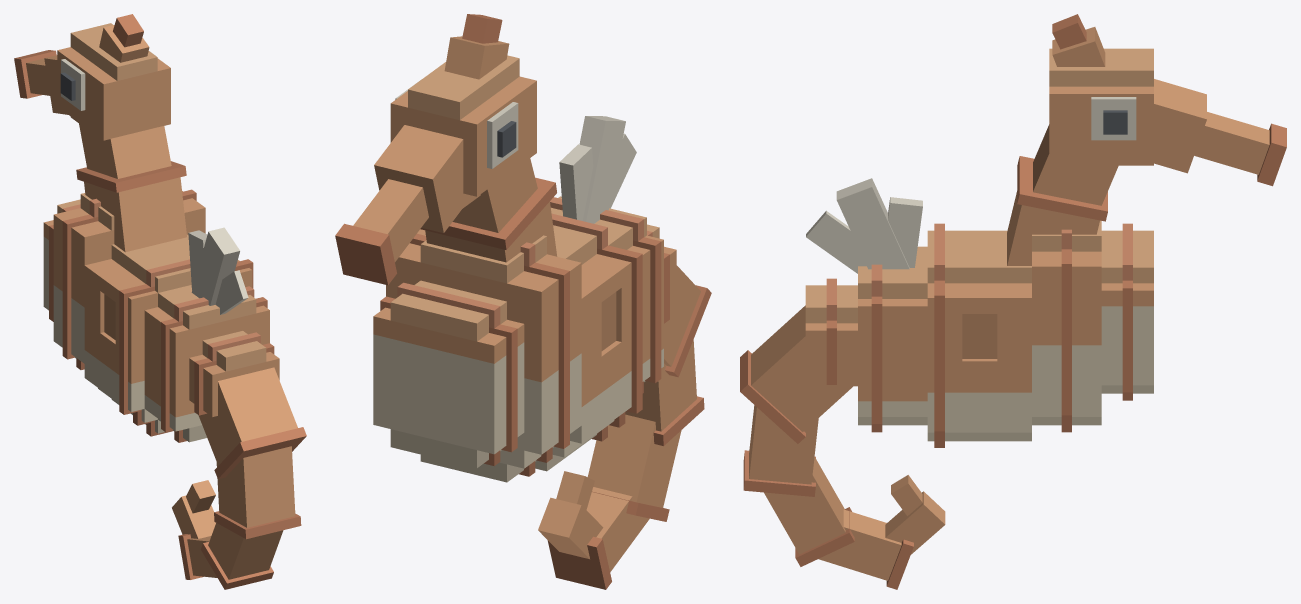
Rendered from Seahorse.glb.
3 renders of one model, left to right at view 1: azimuth 30°, elevation 25°; view 2: azimuth 150°, elevation 25°; view 3: azimuth 270°, elevation 25°, orthographic. The views are drawn at different scales.
Visible parts, largest first — view 1: Body, Head, T1, T2, Fin, T3, T5, T4, T6; view 2: Body, Head, T3, Fin, T4, T2, T1, T5, T6; view 3: Body, Head, T1, Fin, T2, T3, T4, T5, T6.
Part boxes in pixels (left/top/right/bottom): Body: left=43, top=122, right=279, bottom=442; Head: left=14, top=14, right=170, bottom=140; T1: left=198, top=367, right=306, bottom=478; T2: left=214, top=446, right=301, bottom=539; Fin: left=188, top=227, right=248, bottom=314; T3: left=200, top=523, right=283, bottom=589; T5: left=172, top=495, right=215, bottom=538; T4: left=178, top=534, right=217, bottom=579; T6: left=186, top=480, right=215, bottom=513; Body: left=373, top=158, right=676, bottom=482; Head: left=335, top=14, right=536, bottom=285; T3: left=587, top=414, right=681, bottom=521; Fin: left=559, top=116, right=636, bottom=223; T4: left=547, top=487, right=649, bottom=589; T2: left=625, top=340, right=704, bottom=446; T1: left=664, top=265, right=711, bottom=377; T5: left=538, top=497, right=603, bottom=559; T6: left=556, top=471, right=594, bottom=509; Body: left=805, top=124, right=1153, bottom=447; Head: left=1049, top=14, right=1286, bottom=186; T1: left=740, top=305, right=857, bottom=443; Fin: left=806, top=178, right=922, bottom=273; T2: left=743, top=405, right=818, bottom=496; T3: left=764, top=457, right=854, bottom=566; T4: left=818, top=509, right=913, bottom=589; T5: left=885, top=491, right=945, bottom=554; T6: left=891, top=475, right=922, bottom=515.
Size of the model in its own units: 3.84 by 14.22 by 12.56.
